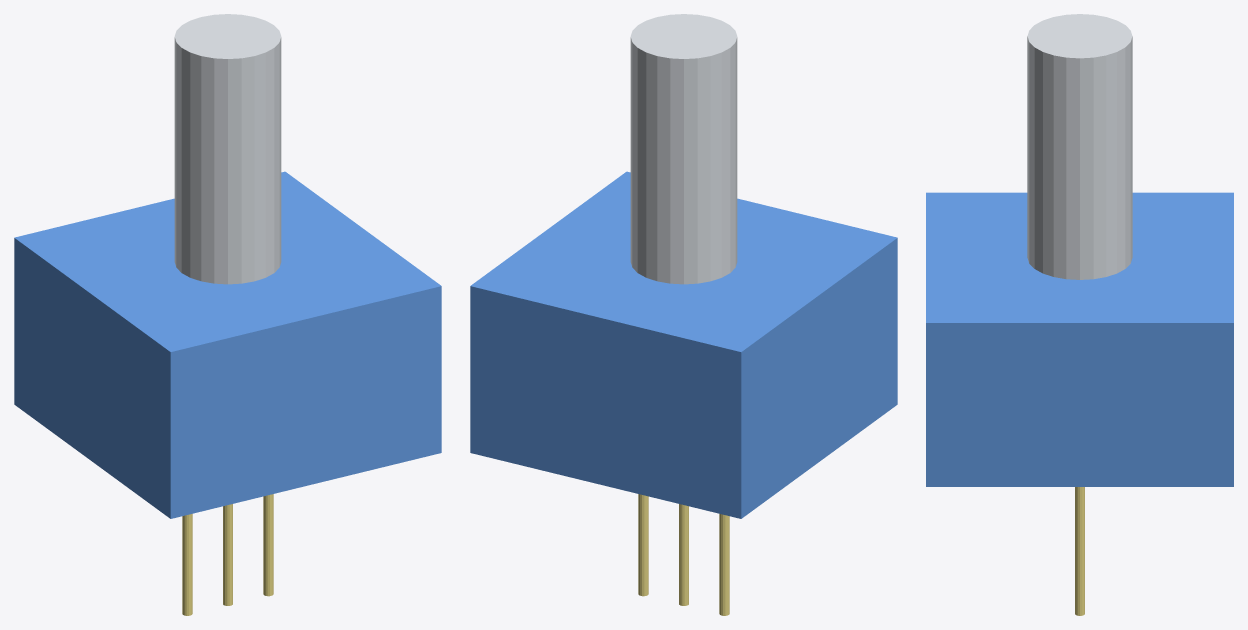
Rendered from potentiometer.glb.
The picture shows the model from 3 angles, left to right: view 1: azimuth 30°, elevation 25°; view 2: azimuth 150°, elevation 25°; view 3: azimuth 270°, elevation 25°; orthographic projection.
Visible parts, largest first — view 1: potentiometer-10k_mesh; view 2: potentiometer-10k_mesh; view 3: potentiometer-10k_mesh.
Part boxes in pixels (x1,y1,x2,y2): potentiometer-10k_mesh: (14,14,441,615); potentiometer-10k_mesh: (470,14,897,615); potentiometer-10k_mesh: (926,14,1233,615).
Bounding box in the file's own units: 17 × 34 × 17.
